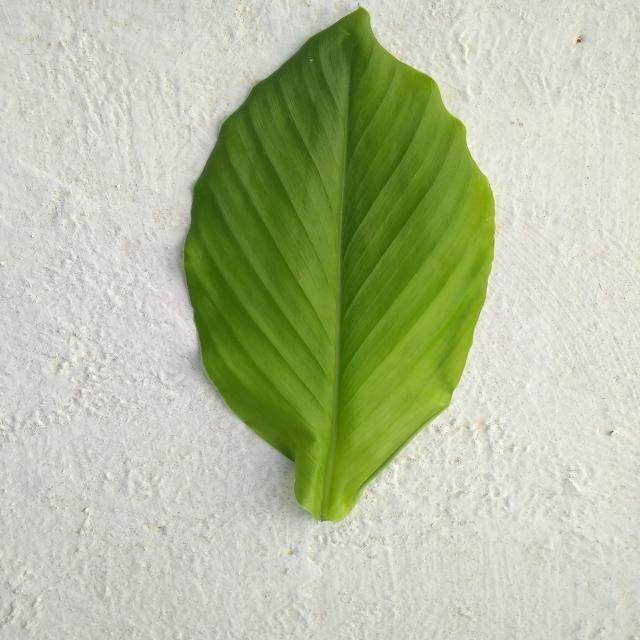turmeric: (184, 9, 493, 521)
